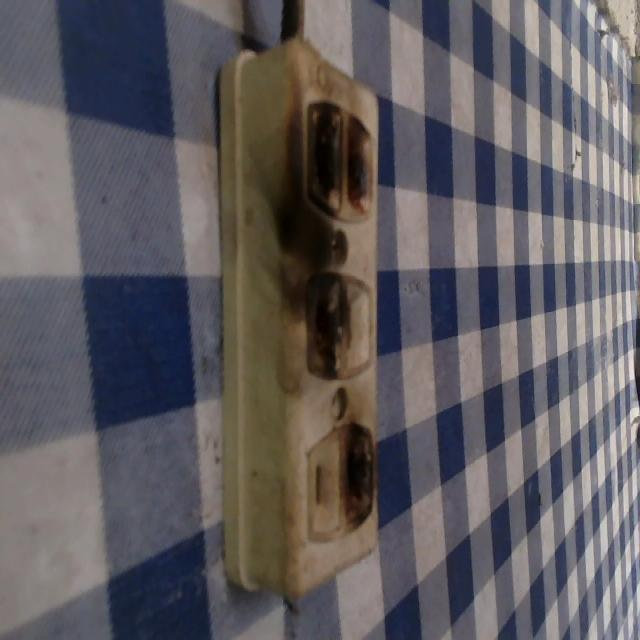-: (289, 89, 382, 227), (294, 259, 350, 397), (340, 418, 382, 530)
